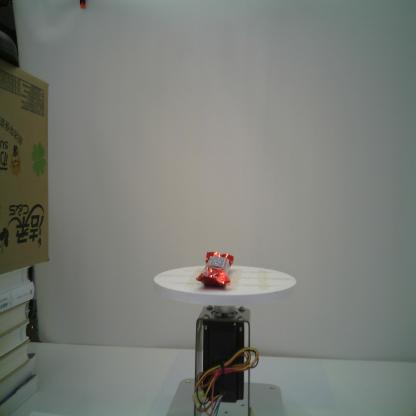Chocolate: (194, 250, 235, 289)
